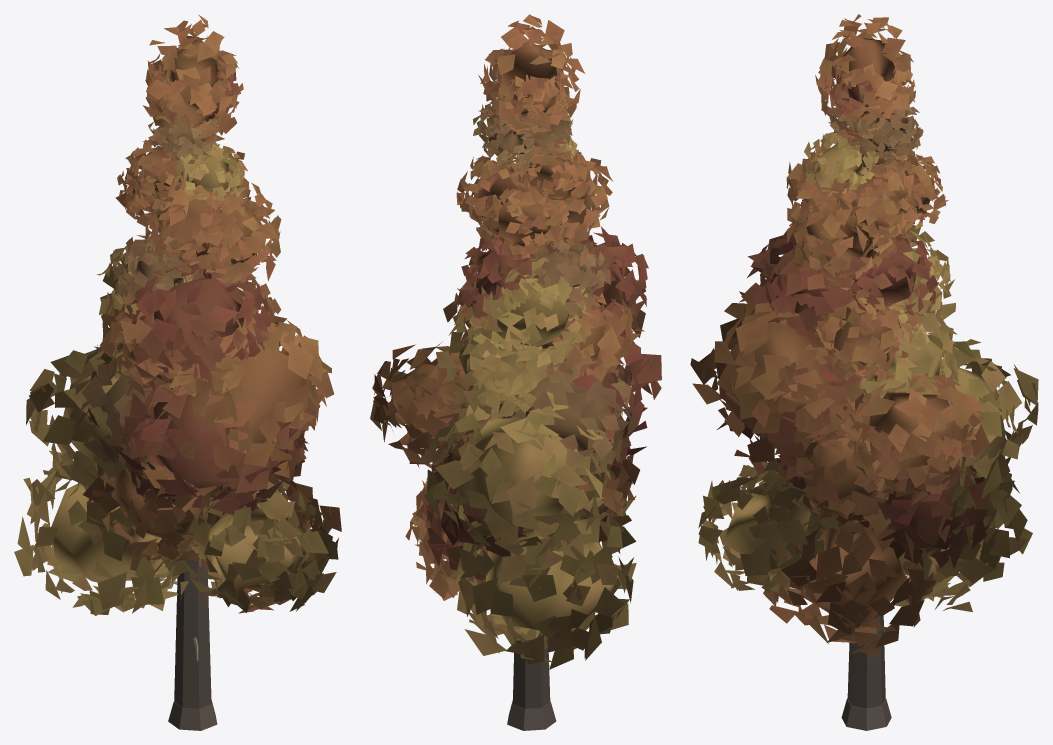
Rendered from lenga_c.glb.
3 renders of one model, left to right at view 1: azimuth 30°, elevation 25°; view 2: azimuth 150°, elevation 25°; view 3: azimuth 270°, elevation 25°, orthographic.
Parts seen in each view (by area): view 1: LengaCHojas, LengaCCopa, LengaC; view 2: LengaCHojas, LengaCCopa, LengaC; view 3: LengaCHojas, LengaCCopa, LengaC.
Part boxes in pixels (left/top/right/bottom): LengaCHojas: left=14, top=14, right=341, bottom=615; LengaCCopa: left=51, top=40, right=308, bottom=591; LengaC: left=154, top=269, right=217, bottom=730; LengaCHojas: left=370, top=14, right=661, bottom=669; LengaCCopa: left=393, top=41, right=627, bottom=629; LengaC: left=507, top=161, right=556, bottom=730; LengaCHojas: left=690, top=14, right=1038, bottom=655; LengaCCopa: left=723, top=38, right=1005, bottom=625; LengaC: left=841, top=138, right=891, bottom=730.
Size of what is drawn, in the model's own units: 3.82 by 9.69 by 4.33.
